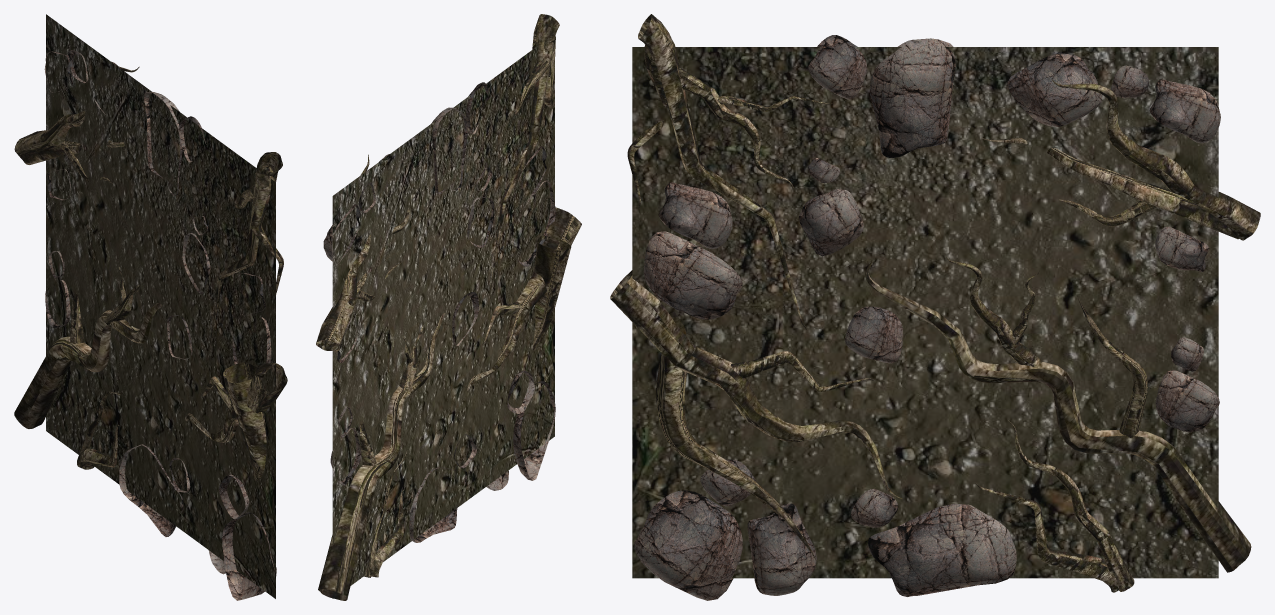
Rendered from Wall_2.fbx.
3 views of the same model, side by side, from view 1: azimuth 30°, elevation 25°; view 2: azimuth 150°, elevation 25°; view 3: azimuth 270°, elevation 25° (orthographic). The views are drawn at different scales.
Parts seen in each view (by area): view 1: Root 2.003; view 2: Root 2.003; view 3: Root 2.003.
Boxes of the visible parts, x1,y1,x2,y2 form: Root 2.003: (14,14,287,600); Root 2.003: (316,14,581,600); Root 2.003: (610,14,1260,600).
Bounding box in the file's own units: 185 × 1353 × 1354.
